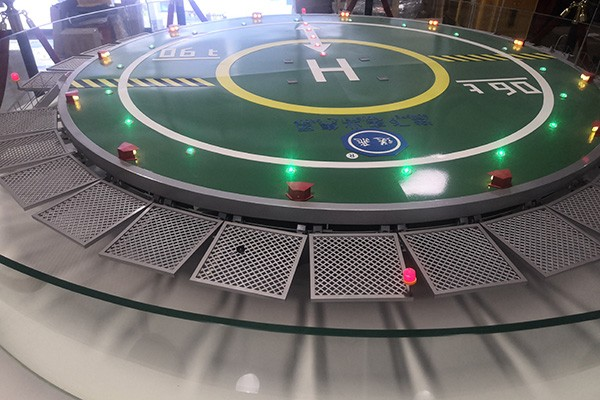H: (307, 59, 360, 82)
